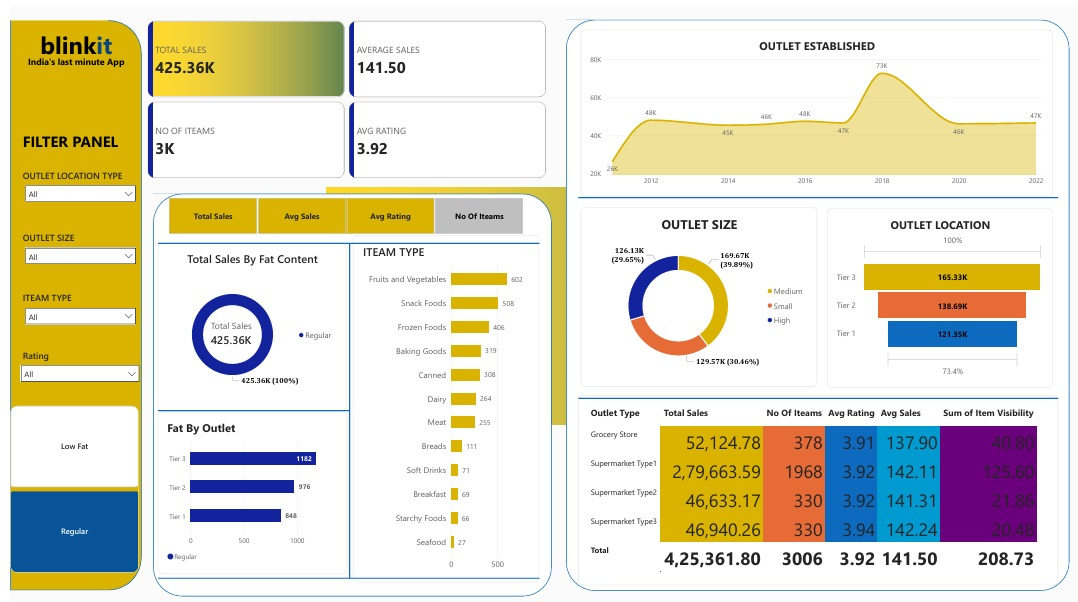

The page's visual inventory and layout, read from the dashboard file:
{"tool":"powerbi","page":{"name":"Page 1","canvas":[2412,1100],"ordinal":0},"visuals":[{"type":"shape","box":[0,0,218.6,1600],"z":0},{"type":"textbox","box":[452.5,507.5,410,177.5],"z":1},{"type":"textbox","box":[0,24.3,218.6,164.3],"z":2},{"type":"textbox","box":[276.5,686,253,914],"z":3},{"type":"textbox","box":[0,95.7,218.6,21.4],"z":4},{"type":"cardVisual","fields":{"Data":["BlinkIT Grocery Data.TOTAL SALES","BlinkIT Grocery Data.AVG OF SALES","BlinkIT Grocery Data.NO OF ITEMS","BlinkIT Grocery Data.AVG RATING"]},"box":[218,124,1236,210],"z":5},{"type":"shape","box":[232,354,1222,746],"z":6},{"type":"donutChart","title":"FAT CONTENT","fields":{"Category":["BlinkIT Grocery Data.Item Fat Content"],"Y":["BlinkIT Grocery Data.TOTAL SALES"]},"box":[252,496,426,270],"z":7},{"type":"slicer","fields":{"Values":["Metrics.Metrics"]},"box":[386,388,918,80],"z":8},{"type":"clusteredBarChart","title":"FAT BY OUTLET","fields":{"Category":["BlinkIT Grocery Data.Outlet Location Type"],"Series":["BlinkIT Grocery Data.Item Fat Content"],"Y":["BlinkIT Grocery Data.TOTAL SALES"]},"box":[252,782,426,300],"z":9},{"type":"shape","box":[252,694,426,162],"z":10},{"type":"shape","box":[232,468,916,632],"z":11},{"type":"barChart","fields":{"Category":["BlinkIT Grocery Data.Item Type"],"Y":["BlinkIT Grocery Data.TOTAL SALES"]},"box":[690,482,748,600],"z":12},{"type":"shape","box":[1480,125,915,975],"z":13},{"type":"lineChart","title":"OUTLET ESTABLISHMENT TREND","fields":{"Category":["BlinkIT Grocery Data.Outlet Establishment Year"],"Y":["BlinkIT Grocery Data.TOTAL SALES"]},"box":[1490,140,898.3,343.3],"z":14},{"type":"shape","box":[1486.7,410,907.5,167.5],"z":15},{"type":"donutChart","title":"OUTLET SIZE DISTRIBUTION","fields":{"Category":["BlinkIT Grocery Data.Outlet Location Type"],"Y":["BlinkIT Grocery Data.TOTAL SALES"]},"box":[1490,496.7,405,270],"z":16},{"type":"shape","box":[1418.3,495,951.7,271.7],"z":17},{"type":"funnel","title":"OUTLET LOCATION","fields":{"Category":["BlinkIT Grocery Data.Outlet Location Type"],"Y":["Sum(BlinkIT Grocery Data.Sales)"]},"box":[1895,496.7,493.3,270],"z":18},{"type":"shape","box":[1485,685,907.5,167.5],"z":19},{"type":"pivotTable","title":"OUTLET TYPE PERFORMANCE","fields":{"Rows":["BlinkIT Grocery Data.Outlet Type"],"Values":["BlinkIT Grocery Data.TOTAL SALES","BlinkIT Grocery Data.NO OF ITEMS","BlinkIT Grocery Data.AVG OF SALES","BlinkIT Grocery Data.AVG RATING","Sum(BlinkIT Grocery Data.Item Visibility)"]},"box":[1490,775,898.3,325],"z":20},{"type":"slicer","fields":{"Values":["BlinkIT Grocery Data.Outlet Location Type"]},"box":[12,372,196,56],"z":21},{"type":"slicer","fields":{"Values":["BlinkIT Grocery Data.Outlet Size"]},"box":[12,482,196,56],"z":22},{"type":"slicer","fields":{"Values":["BlinkIT Grocery Data.Item Type"]},"box":[12,584,196,56],"z":23},{"type":"textbox","box":[44,342,188,208],"z":24},{"type":"image","box":[64,662,92,66],"z":25},{"type":"textbox","box":[232,24,611,72],"z":26},{"type":"textbox","box":[232,72,493,300],"z":27},{"type":"image","box":[68,744,84,110],"z":28},{"type":"image","box":[64,826,88,170],"z":29},{"type":"image","box":[64,982,92,100],"z":30}]}

Visuals, with their boxes on the page's 2412x1100 design canvas (x1, y1, x2, y2). These are canvas units, not pixel positions in the 1078x602 screenshot, which may show the page scaled, cropped or inside an application window:
shape: locate(0, 0, 219, 1600)
textbox: locate(452, 508, 862, 685)
textbox: locate(0, 24, 219, 189)
textbox: locate(276, 686, 530, 1600)
textbox: locate(0, 96, 219, 117)
cardVisual - BlinkIT Grocery Data.TOTAL SALES x BlinkIT Grocery Data.AVG OF SALES: locate(218, 124, 1454, 334)
shape: locate(232, 354, 1454, 1100)
"FAT CONTENT" donutChart: locate(252, 496, 678, 766)
slicer - Metrics.Metrics: locate(386, 388, 1304, 468)
"FAT BY OUTLET" clusteredBarChart: locate(252, 782, 678, 1082)
shape: locate(252, 694, 678, 856)
shape: locate(232, 468, 1148, 1100)
barChart - BlinkIT Grocery Data.Item Type x BlinkIT Grocery Data.TOTAL SALES: locate(690, 482, 1438, 1082)
shape: locate(1480, 125, 2395, 1100)
"OUTLET ESTABLISHMENT TREND" lineChart: locate(1490, 140, 2388, 483)
shape: locate(1487, 410, 2394, 578)
"OUTLET SIZE DISTRIBUTION" donutChart: locate(1490, 497, 1895, 767)
shape: locate(1418, 495, 2370, 767)
"OUTLET LOCATION" funnel: locate(1895, 497, 2388, 767)
shape: locate(1485, 685, 2392, 852)
"OUTLET TYPE PERFORMANCE" pivotTable: locate(1490, 775, 2388, 1100)
slicer - BlinkIT Grocery Data.Outlet Location Type: locate(12, 372, 208, 428)
slicer - BlinkIT Grocery Data.Outlet Size: locate(12, 482, 208, 538)
slicer - BlinkIT Grocery Data.Item Type: locate(12, 584, 208, 640)
textbox: locate(44, 342, 232, 550)
image: locate(64, 662, 156, 728)
textbox: locate(232, 24, 843, 96)
textbox: locate(232, 72, 725, 372)
image: locate(68, 744, 152, 854)
image: locate(64, 826, 152, 996)
image: locate(64, 982, 156, 1082)
